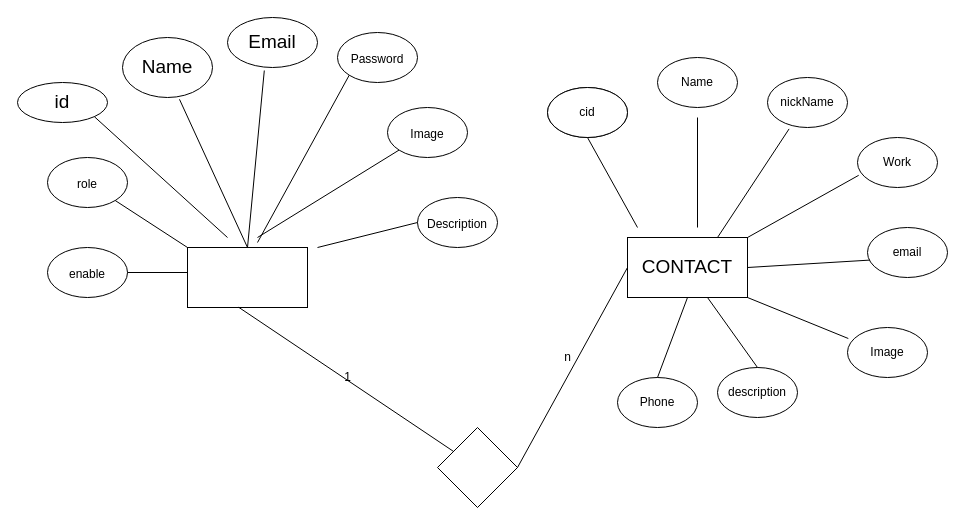
This 965x525 diagram has some shape labels left out. The box of each missing label's shape, as (x1, y1, x2, y2) in pixels:
has: (436, 426, 518, 508)
USER: (186, 246, 308, 308)
